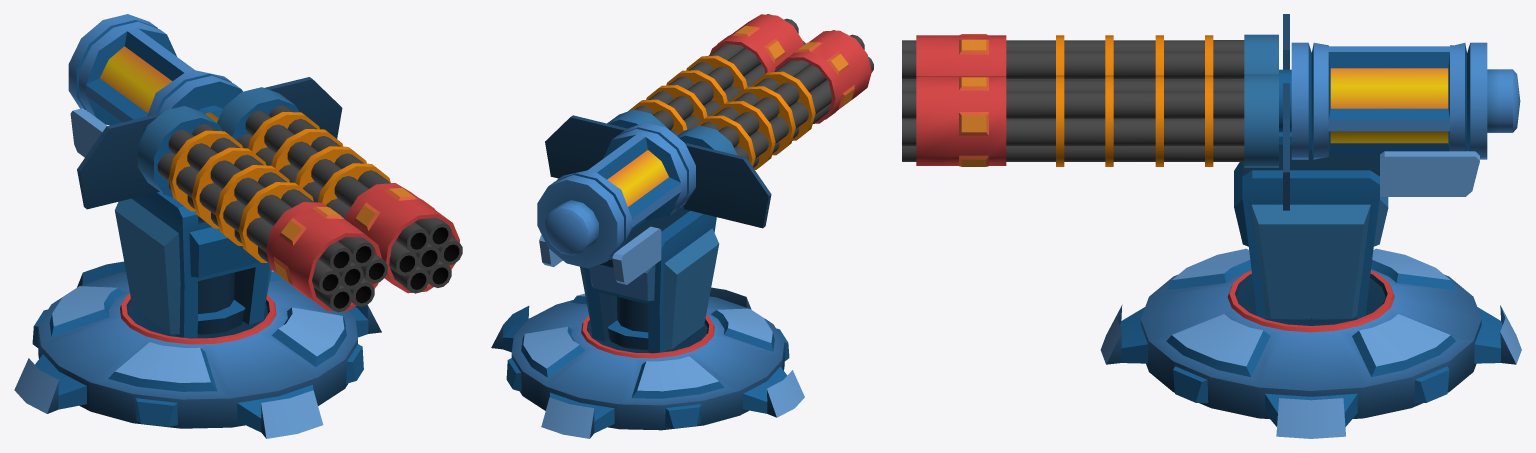
Rendered from Machinegun_02.fbx.
The picture shows the model from 3 angles, left to right: view 1: azimuth 30°, elevation 25°; view 2: azimuth 150°, elevation 25°; view 3: azimuth 270°, elevation 25°; orthographic projection. The views are drawn at different scales.
Visible parts, largest first — view 1: Machinegun_02, Machinegun_Platform, Machinegun_Stage; view 2: Machinegun_02, Machinegun_Platform, Machinegun_Stage; view 3: Machinegun_02, Machinegun_Platform, Machinegun_Stage.
Boxes of the visible parts, x1,y1,x2,y2 form: Machinegun_02: (68, 14, 462, 312); Machinegun_Platform: (14, 261, 381, 438); Machinegun_Stage: (70, 108, 271, 338); Machinegun_02: (537, 14, 873, 268); Machinegun_Platform: (491, 287, 804, 438); Machinegun_Stage: (539, 206, 719, 353); Machinegun_02: (902, 14, 1520, 210); Machinegun_Platform: (1100, 248, 1521, 438); Machinegun_Stage: (1234, 132, 1479, 319).
Bounding box in the file's own units: 2.47 × 1.95 × 3.63.
